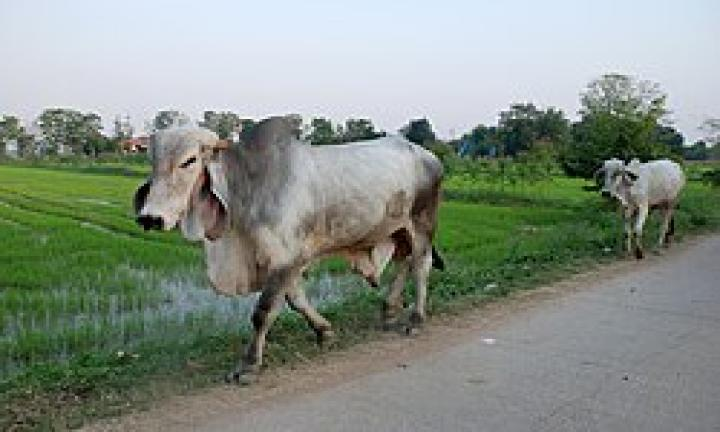Brahman: (132, 116, 441, 380), (596, 158, 683, 256)
